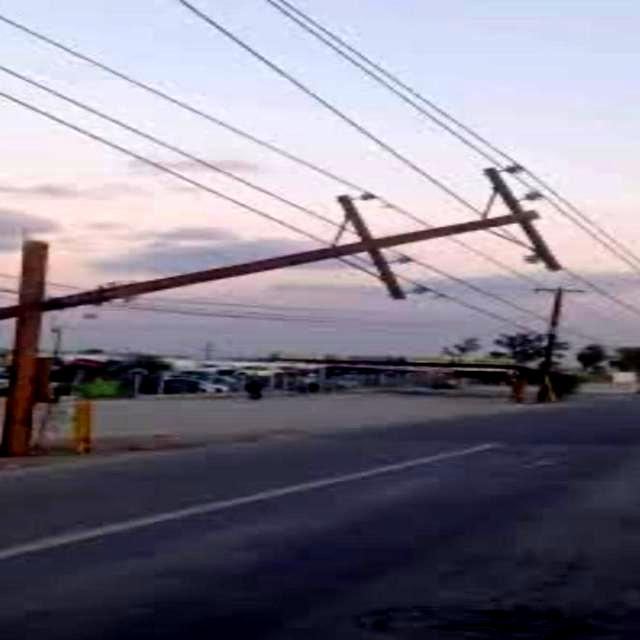Broken Pole: (0, 156, 591, 455)
